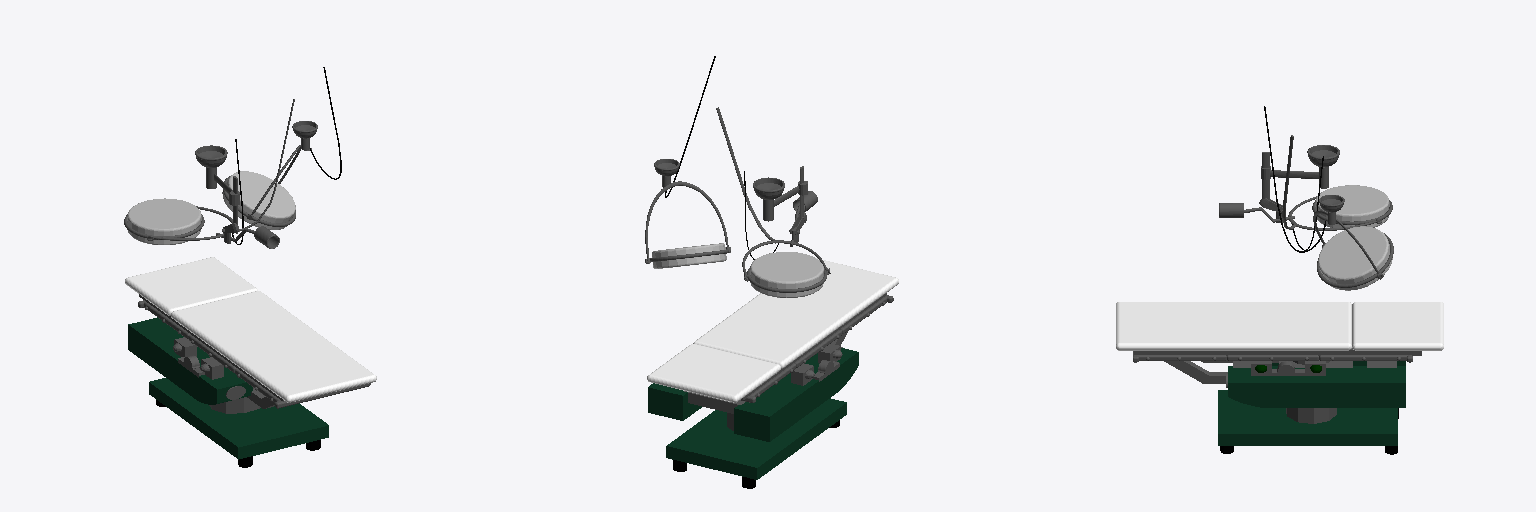
File: Operating_Table.obj
3 renders of one model, left to right at view 1: azimuth 30°, elevation 25°; view 2: azimuth 150°, elevation 25°; view 3: azimuth 270°, elevation 25°, orthographic.
Visible parts, largest first — view 1: cushion_1, stand, cushion_2, pivots, lamps01, lamps, object02, handle, rod; view 2: cushion_1, stand, pivots, cushion_2, lamps01, lamps, object02, handle, nhandle03, logs01; view 3: cushion_1, pivots, stand, cushion_2, lamps, lamps01, handle, object02, rod, base, logs01, rivet.
Boxes of the visible parts, box(x1,y1,x2,y2) form: cushion_1: box(171, 291, 376, 402); stand: box(149, 378, 328, 459); cushion_2: box(125, 257, 257, 315); pivots: box(128, 317, 252, 404); lamps01: box(127, 198, 201, 244); lamps: box(222, 171, 295, 229); object02: box(195, 145, 227, 188); handle: box(214, 174, 239, 243); rod: box(209, 397, 260, 413); cushion_1: box(693, 258, 898, 368); stand: box(666, 398, 846, 479); pivots: box(648, 348, 858, 441); cushion_2: box(647, 344, 780, 402); lamps01: box(750, 252, 823, 297); lamps: box(652, 243, 726, 268); object02: box(753, 177, 784, 221); handle: box(774, 166, 807, 242); nhandle03: box(645, 181, 730, 263); logs01: box(684, 391, 744, 413); cushion_1: box(1116, 302, 1351, 350); pivots: box(1228, 361, 1405, 407); stand: box(1218, 390, 1397, 445); cushion_2: box(1352, 302, 1443, 350); lamps: box(1318, 226, 1392, 290); lamps01: box(1315, 185, 1389, 227); handle: box(1259, 152, 1318, 222); object02: box(1307, 145, 1339, 188); rod: box(1286, 361, 1336, 423); base: box(1164, 361, 1227, 383); logs01: box(1233, 361, 1396, 367); rivet: box(1219, 203, 1294, 222).
Bounding box in the file's own units: 1845 × 3511 × 2908.